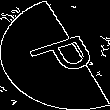P_NE: (14, 28, 96, 82)
